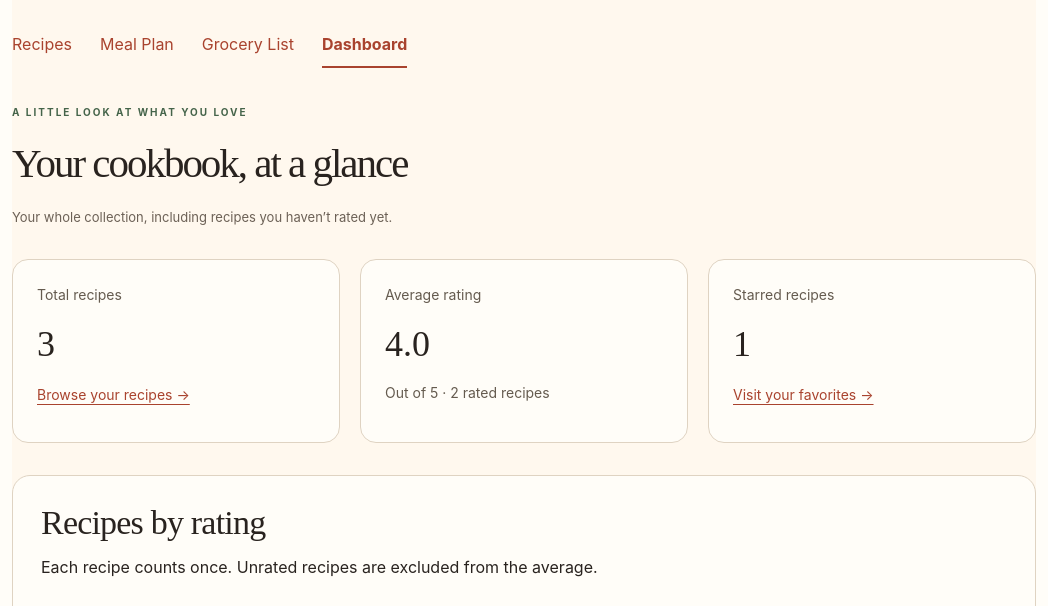
Scenario: reloads the full collection on returning from Recipes, independent of URL filters
Expected: the text with test id "total-recipes" reads "3", [37, 324, 55, 364]
Click the link "Recipes": (42, 44) [12, 34, 72, 54]
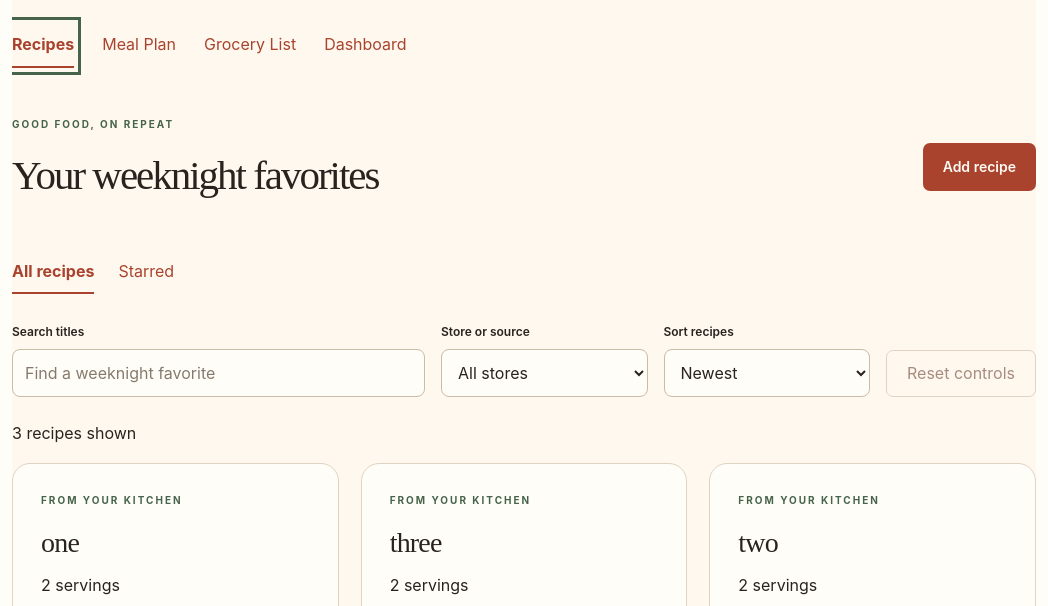
Expected: the heading "Your weeknight favorites" is shown, [12, 152, 378, 199]
Click the link "Dashboard": (365, 44) [324, 34, 407, 54]
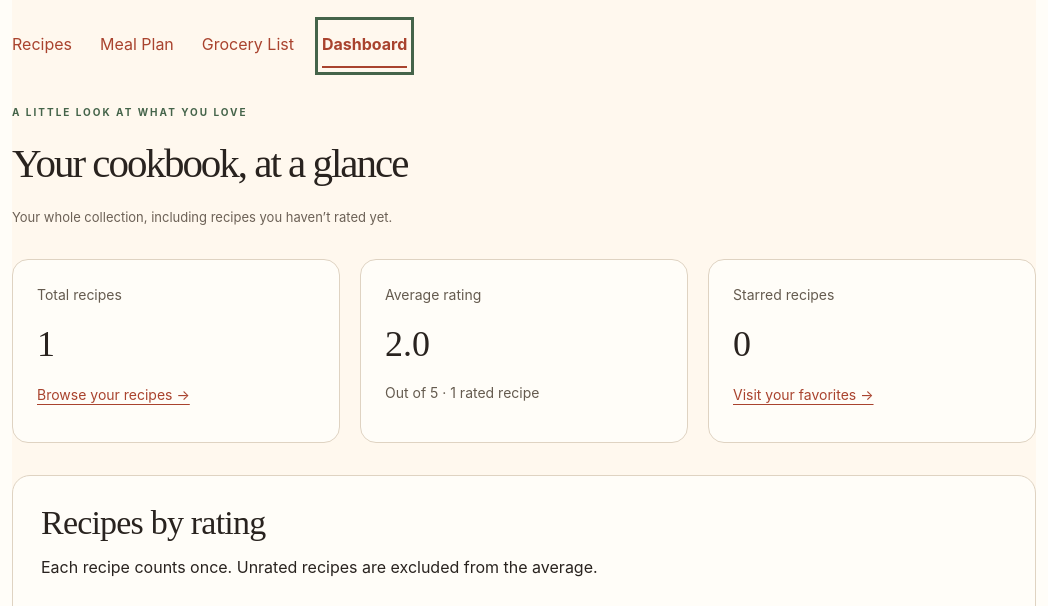
Expected: the text with test id "total-recipes" reads "1", [37, 324, 55, 364]
Expected: the text with test id "average-rating" reads "2.0", [385, 324, 430, 364]
